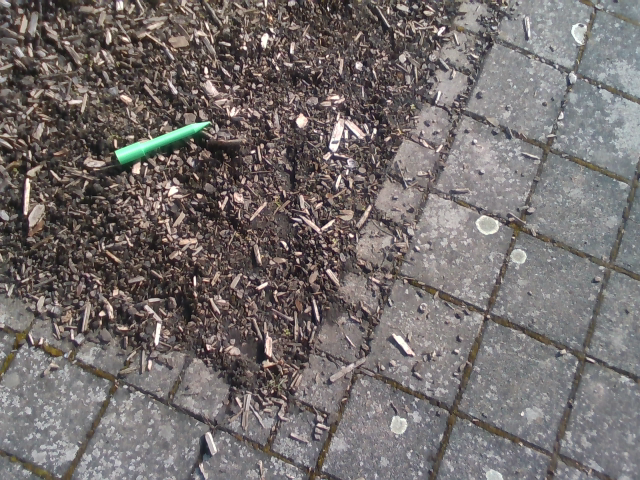Probe: (109, 110, 213, 171)
